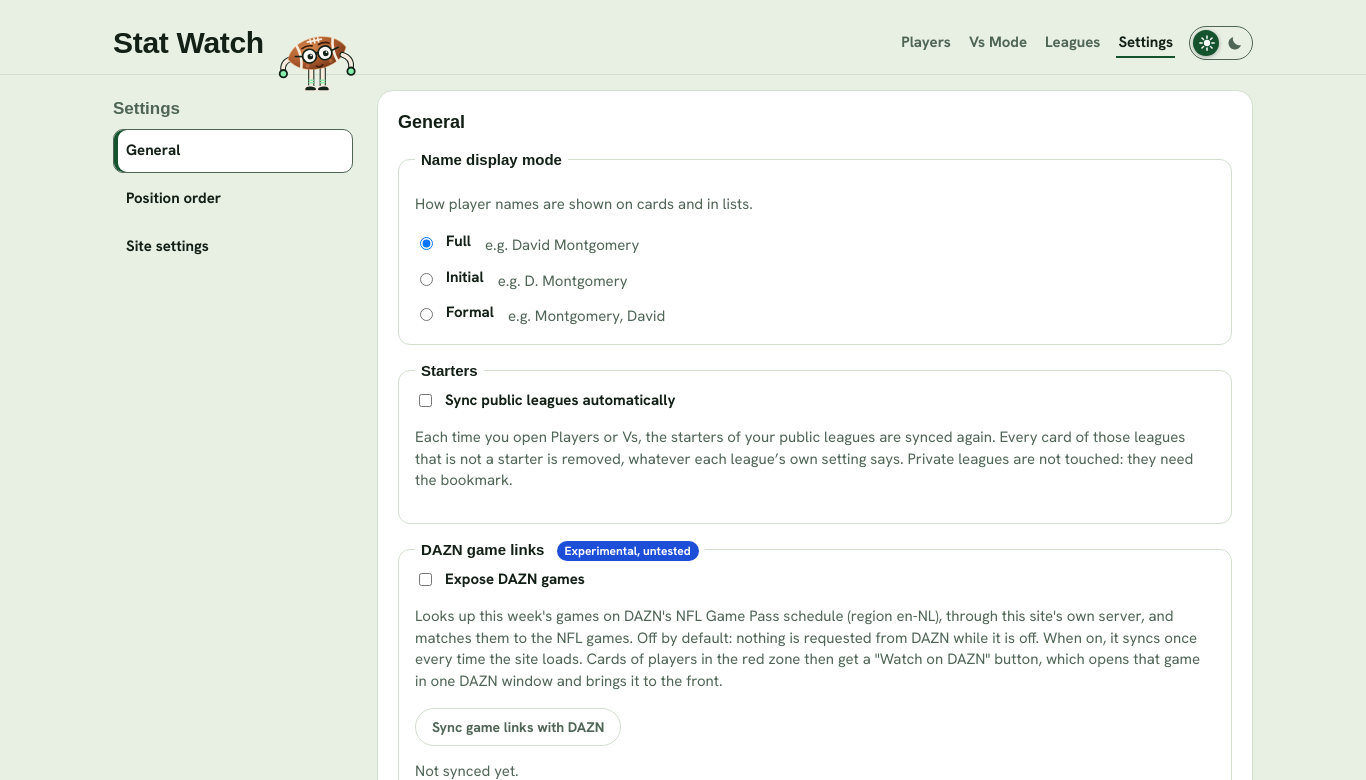
Test case: language setting › offers Automatic, English and Magyar with Automatic selected, and says what Automatic does
Click the button "Site settings" at (233, 246), box x1=113 y1=224 x2=353 y2=268
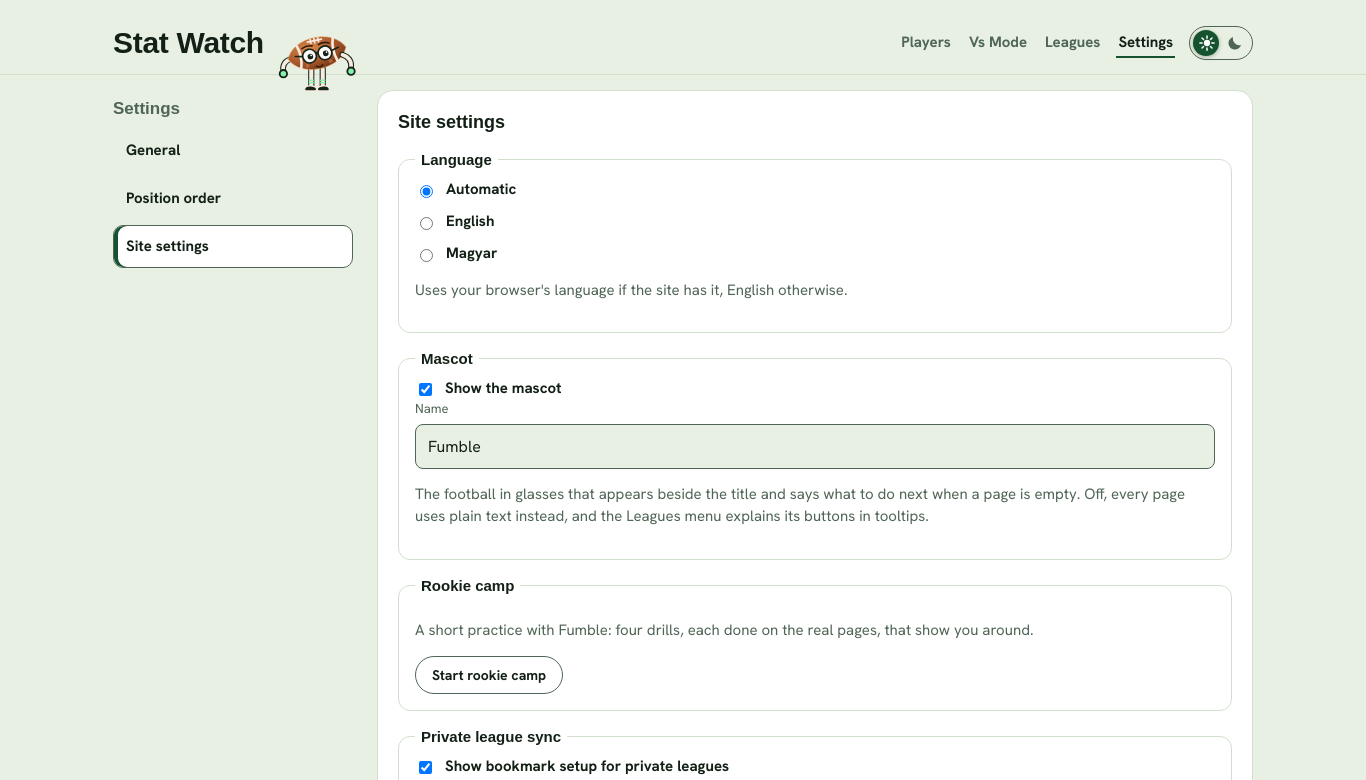
Now the radio button labelled "Automatic" is checked, box x1=420 y1=185 x2=433 y2=198
